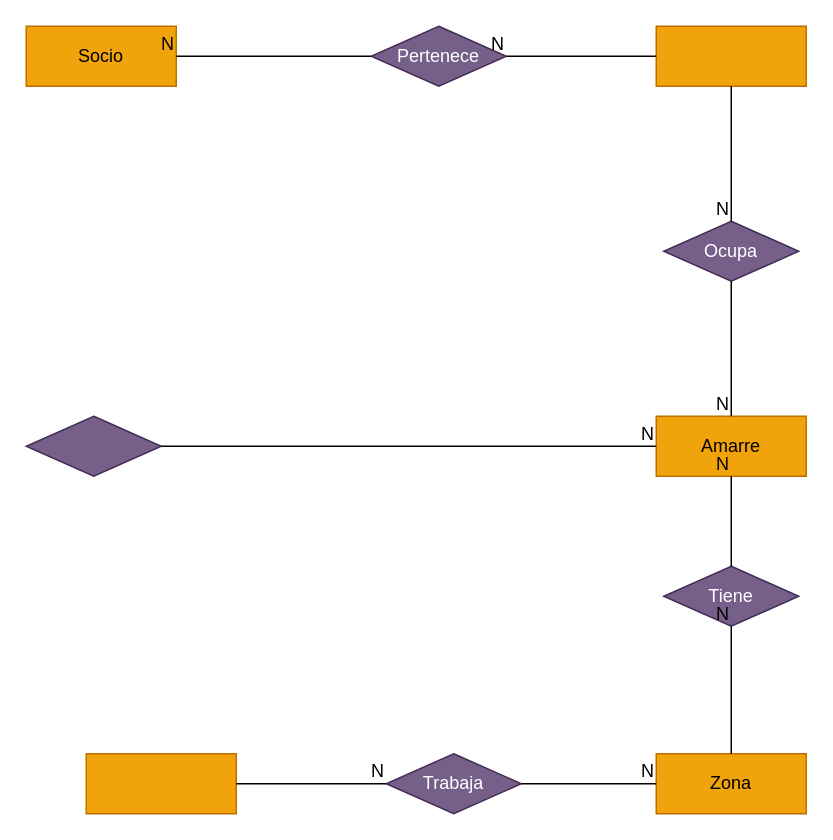
Image size: 833x840. Some labels were removed from this diagram. Each missing label, with the centre of its shape:
Compra: the point at 93,445
Embarcacion: the point at 730,55
Empleado: the point at 160,783
